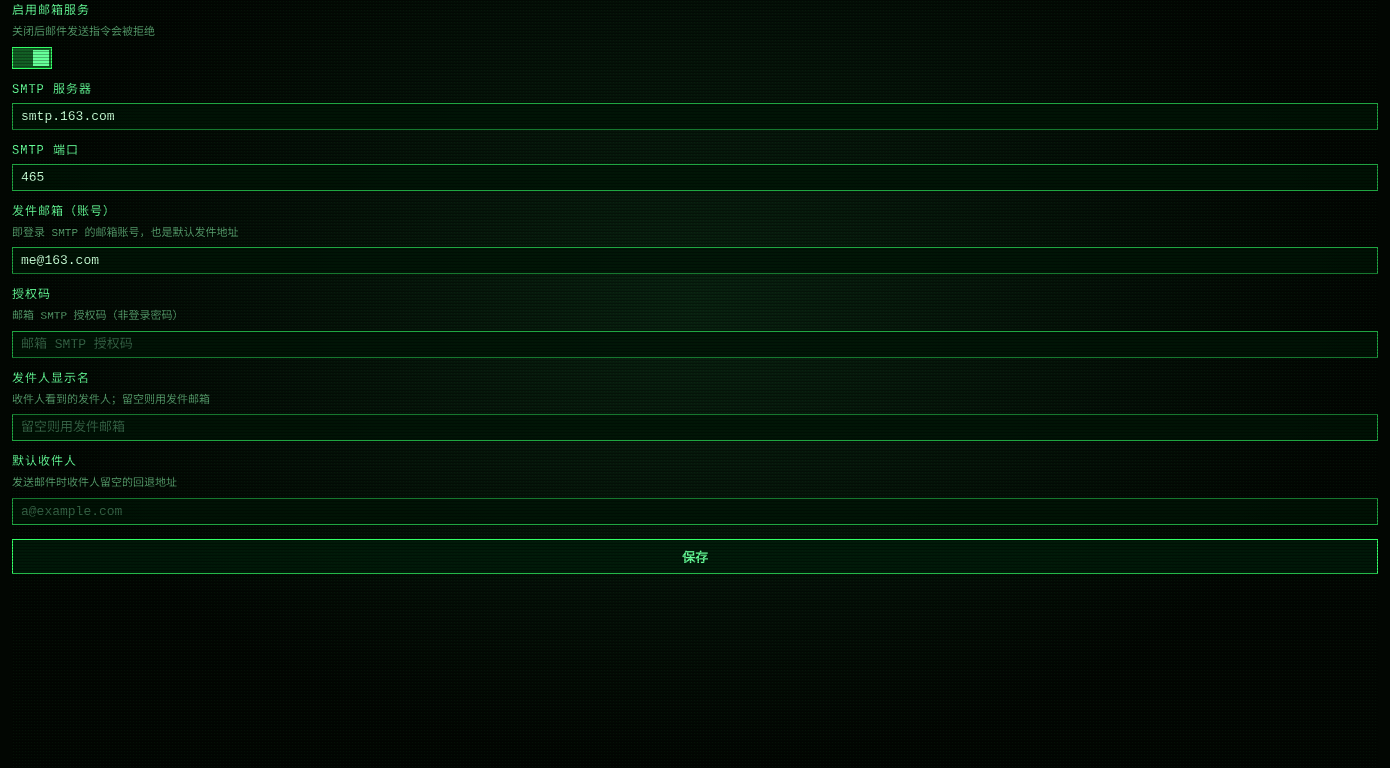
it: EmailConfigForm › 端口非法：本地拦截显示错误、不调 saveEmailConfig
The image size is (1390, 768).
Step 1. Type "99999" into the field with test id "email-config-port" → (695, 177), box [12,164,1378,190]
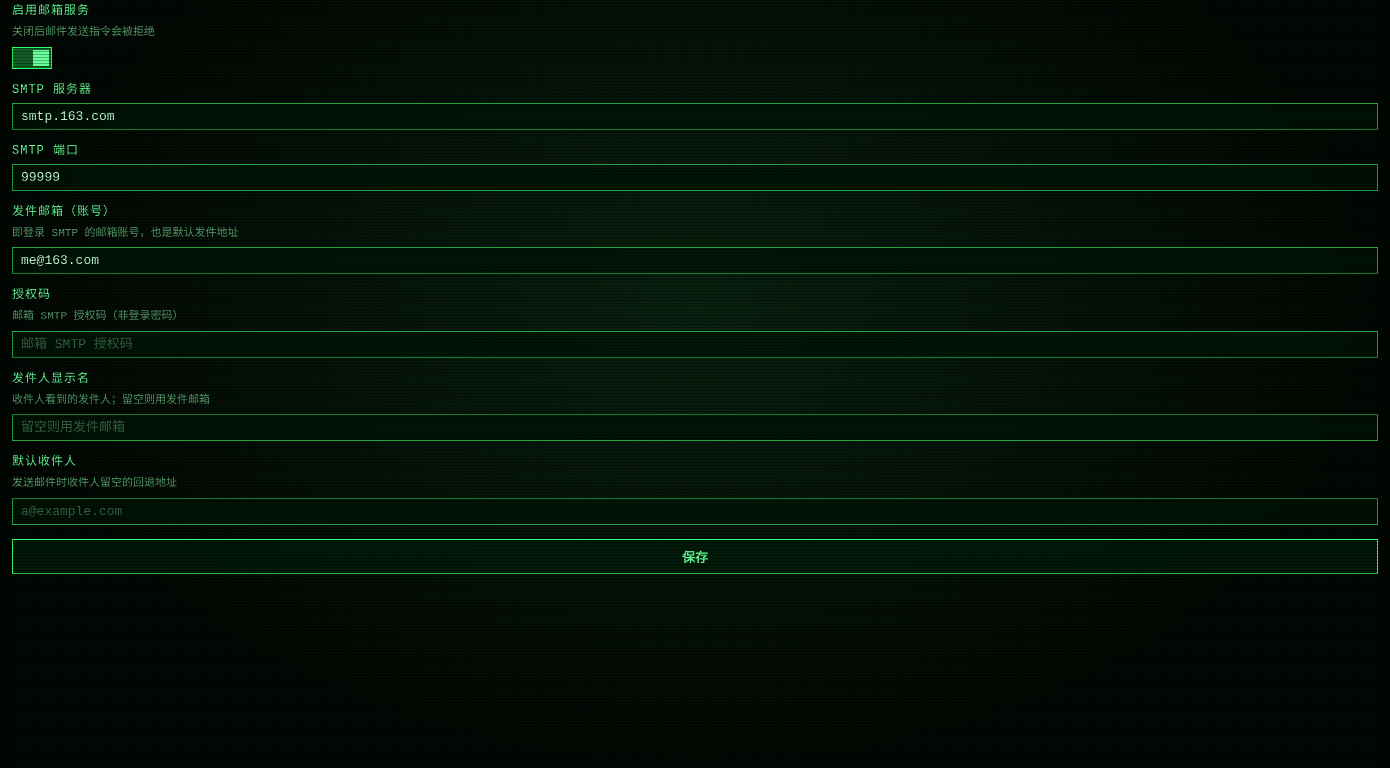
Step 2. Click the button with test id "email-config-save" → (695, 556), box [12,538,1378,574]
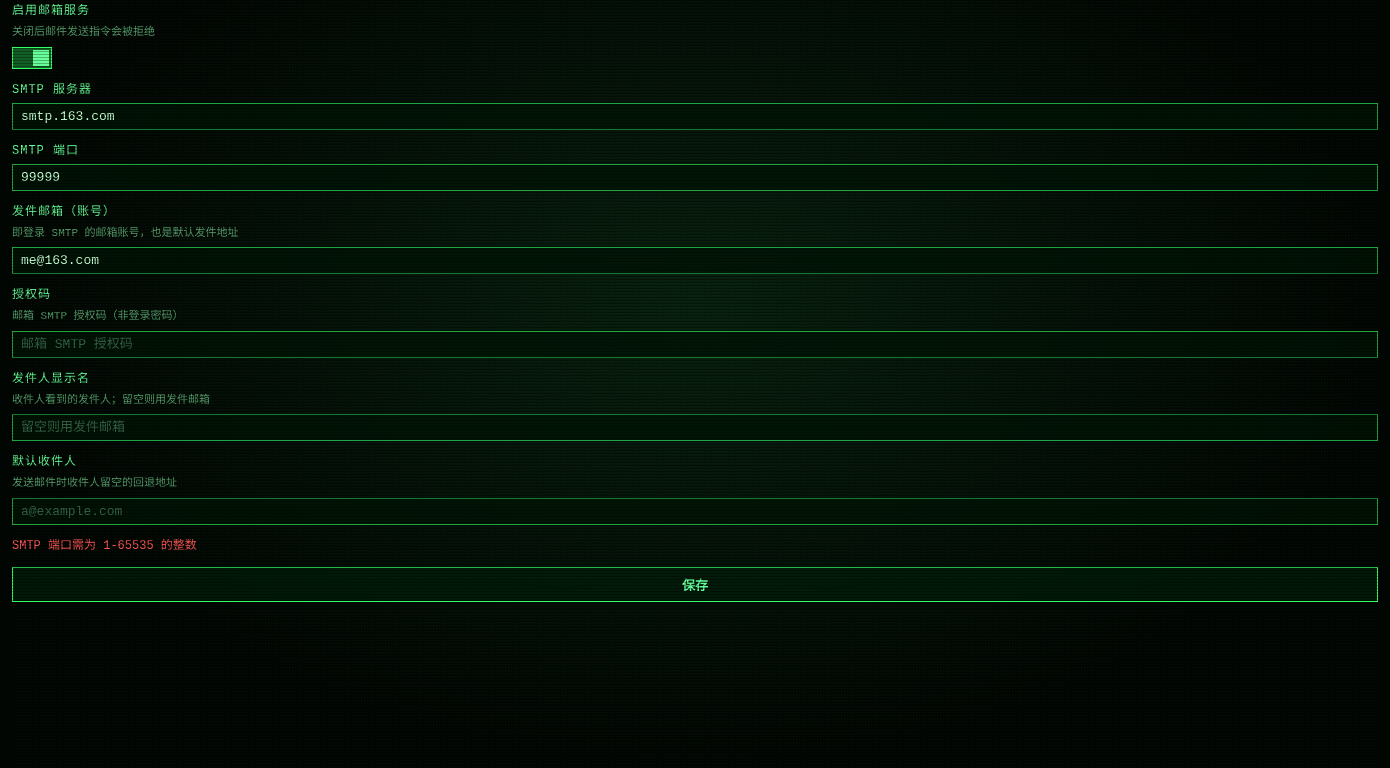
Check: the text with test id "email-config-error" reads "SMTP 端口需为 1-65535 的整数", box [12,538,197,552]
